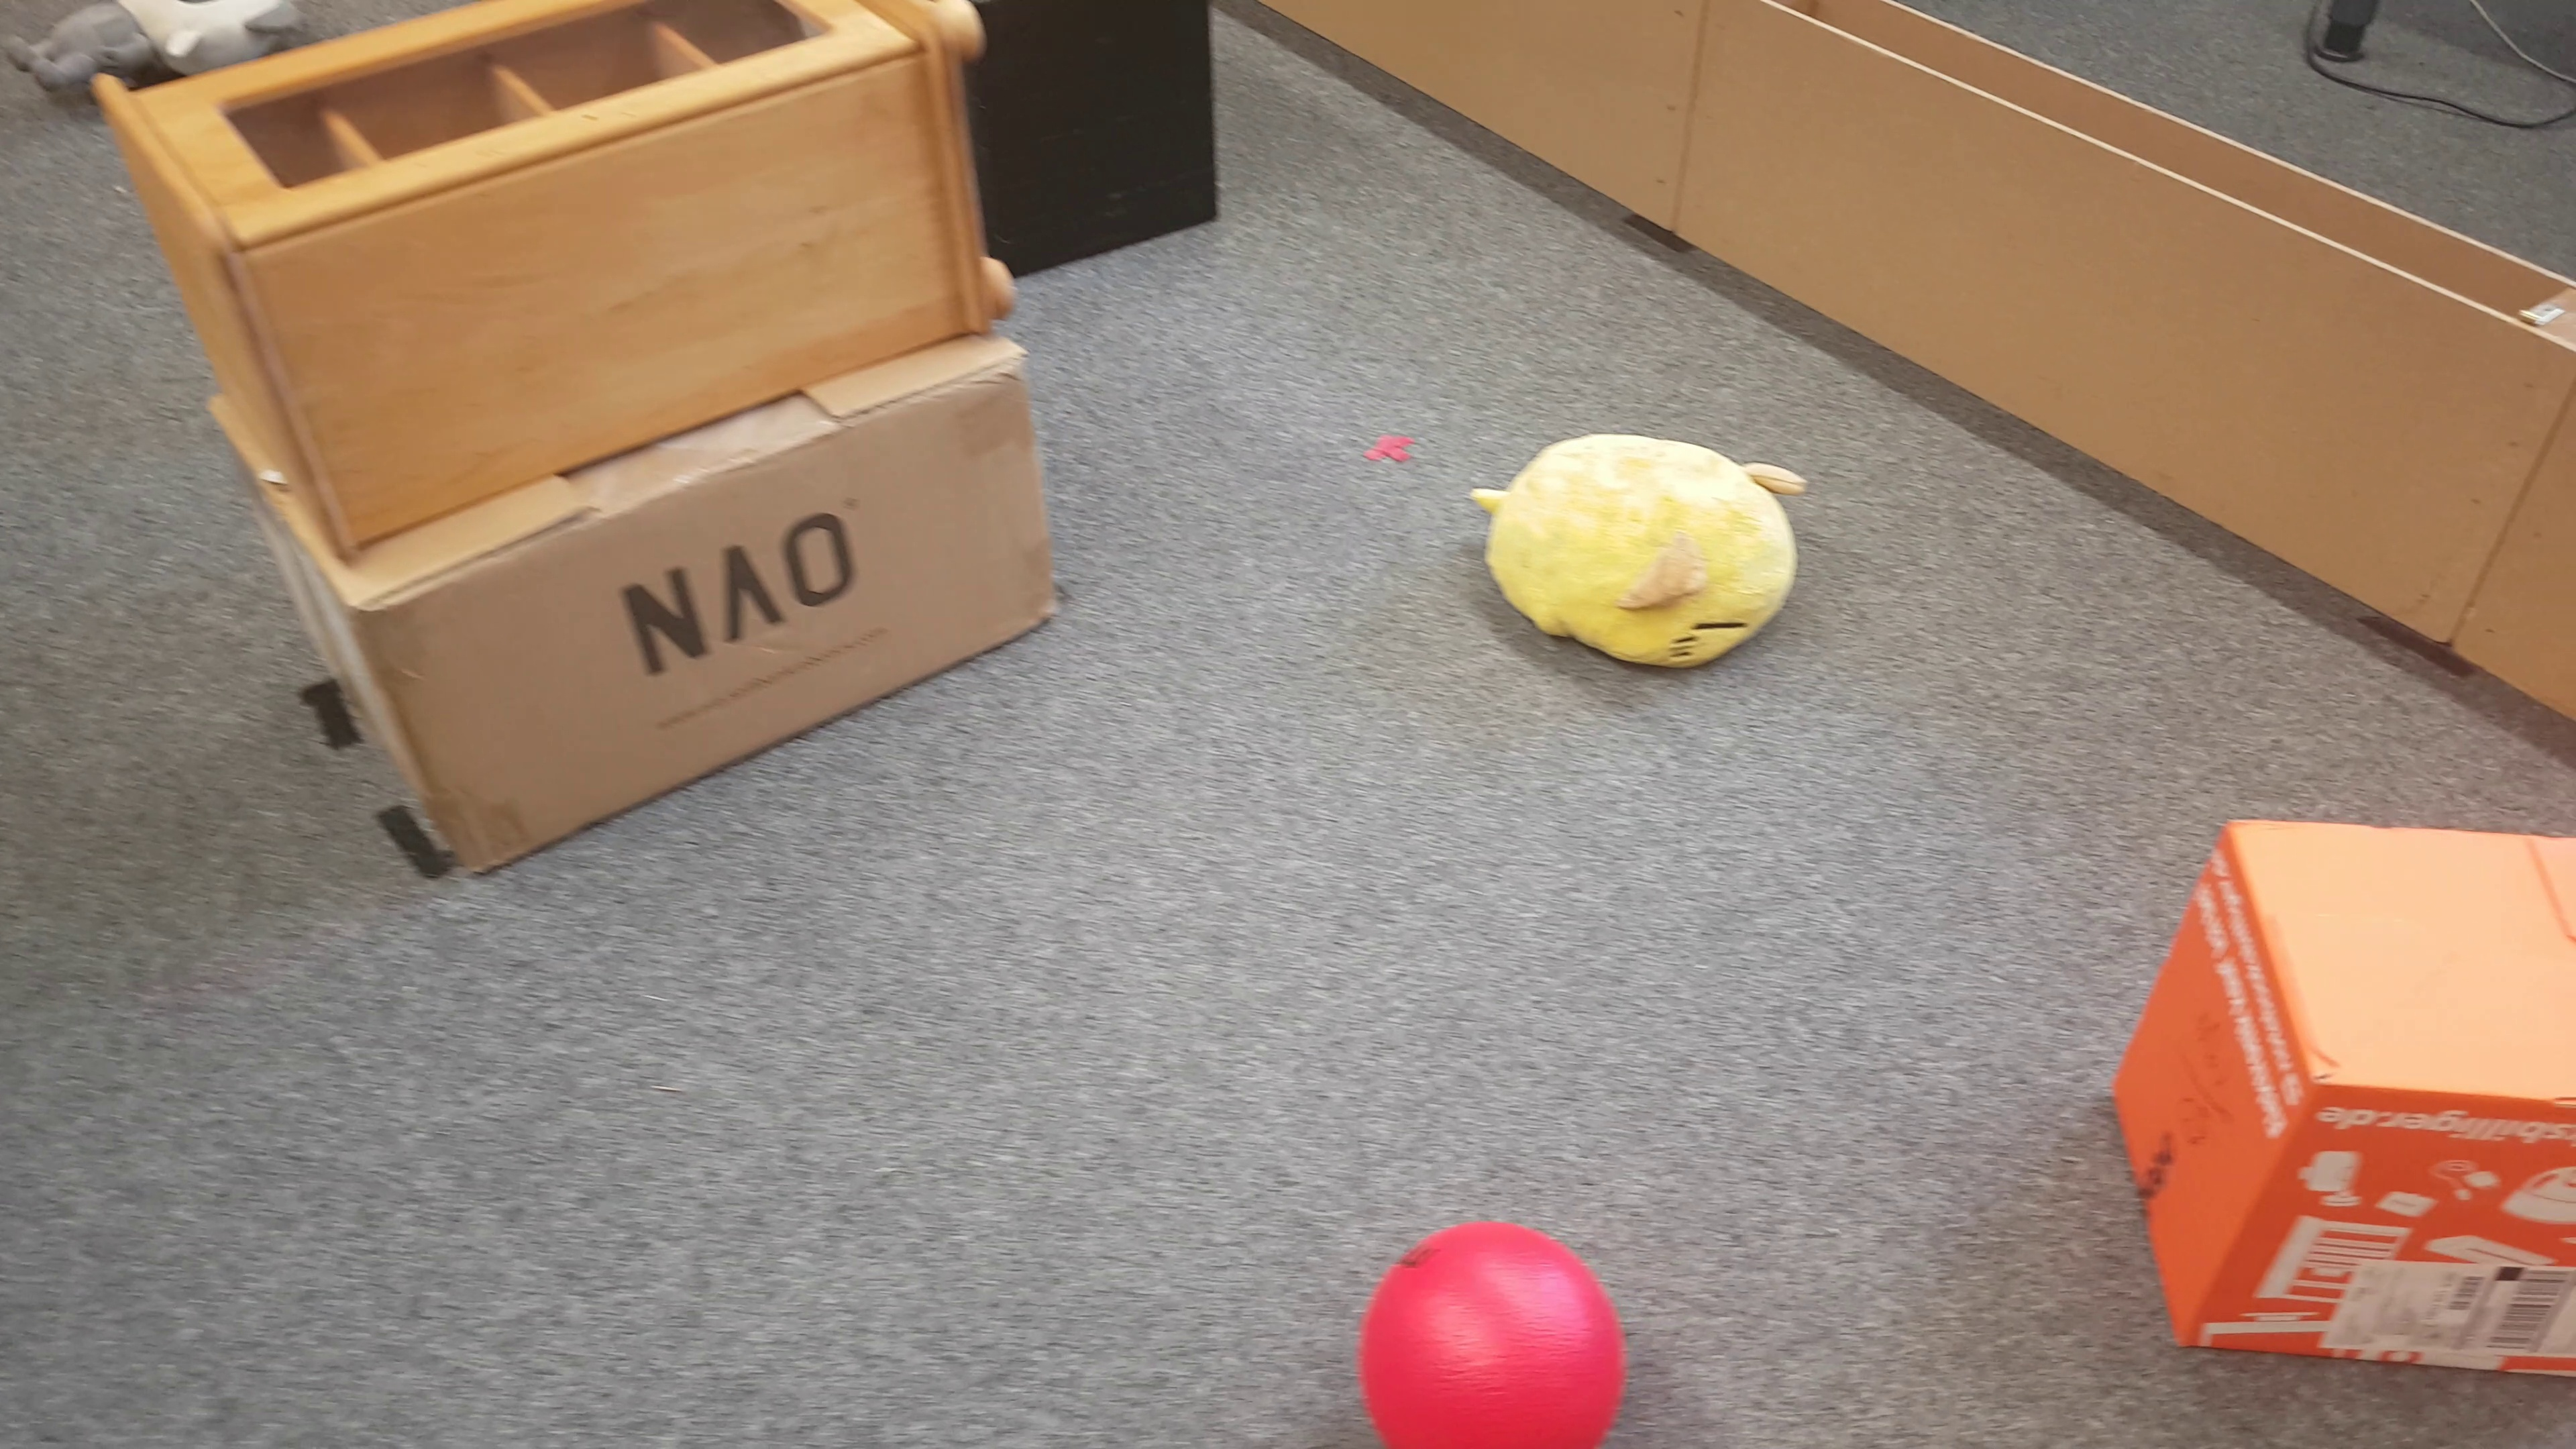grasp: (1461, 430, 1803, 679), (12, 2, 281, 55)
kick: (1359, 1219, 1622, 1449)
push: (2112, 809, 2576, 1396), (1012, 0, 1226, 274)
